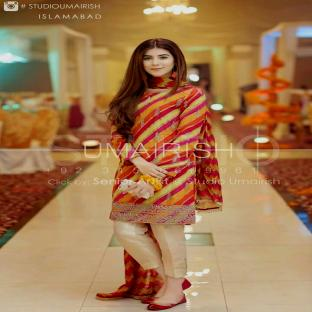Human: (96, 38, 222, 310)
